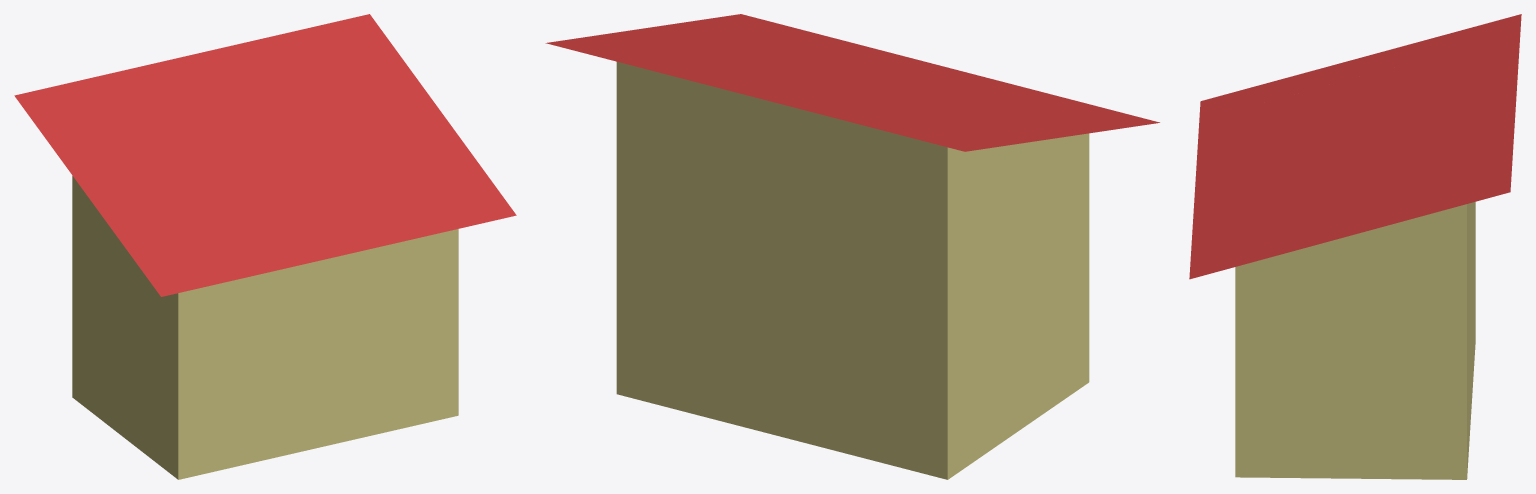
The picture shows the model from 3 angles, left to right: view 1: azimuth 30°, elevation 25°; view 2: azimuth 150°, elevation 25°; view 3: azimuth 270°, elevation 25°; orthographic projection. The views are drawn at different scales.
Size of the model in its own units: 9.64 by 7.44 by 7.59.
